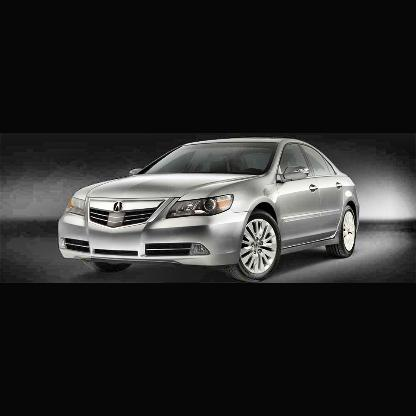Acura RL Sedan 2012: (57, 138, 364, 283)
